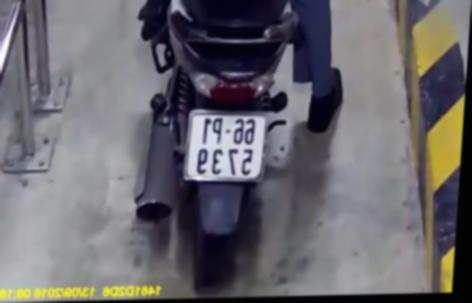License_Plate: (180, 108, 273, 186)
